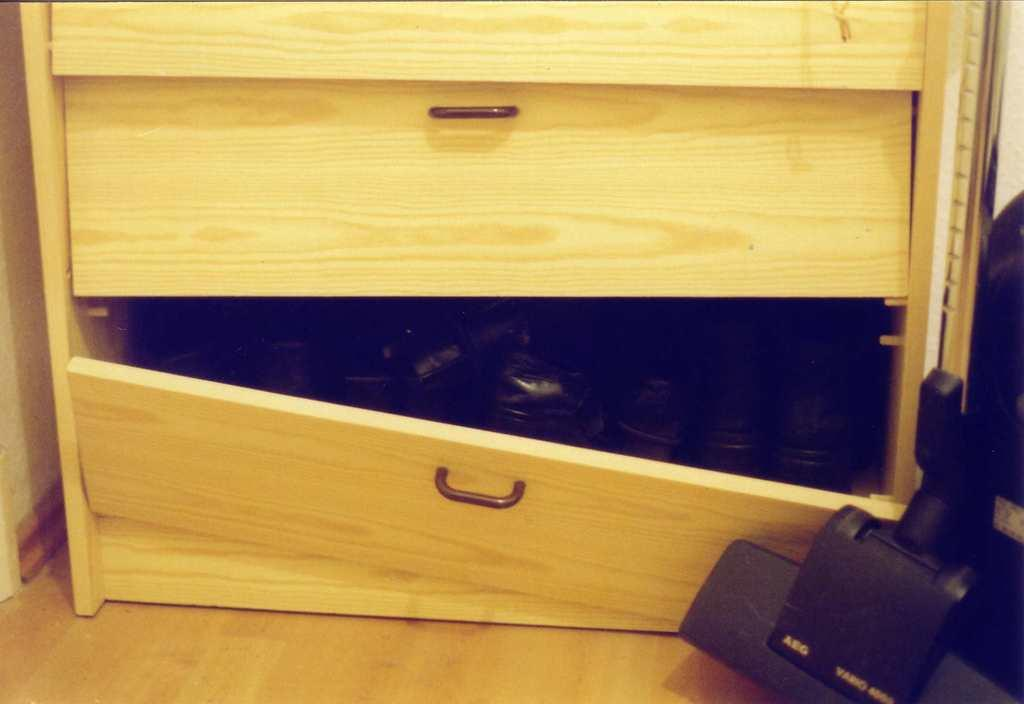cabinet_door: (64, 86, 894, 288), (83, 409, 796, 607)
handle: (434, 466, 536, 514), (426, 105, 520, 129)
